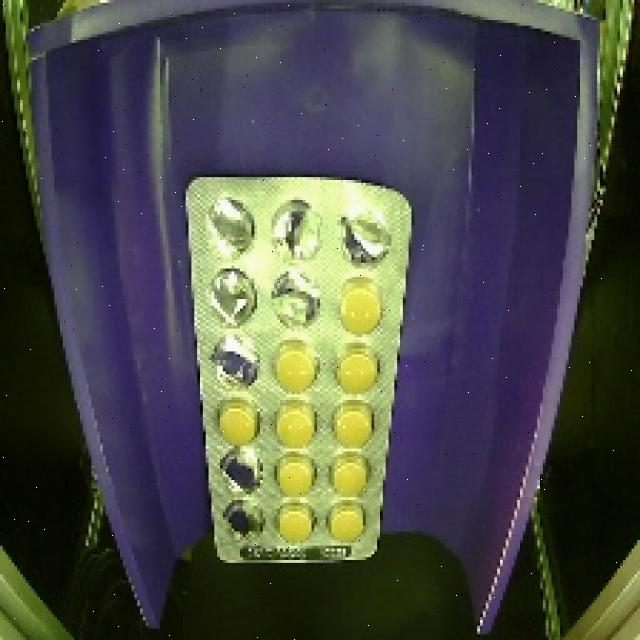med_plate: (172, 164, 423, 581)
